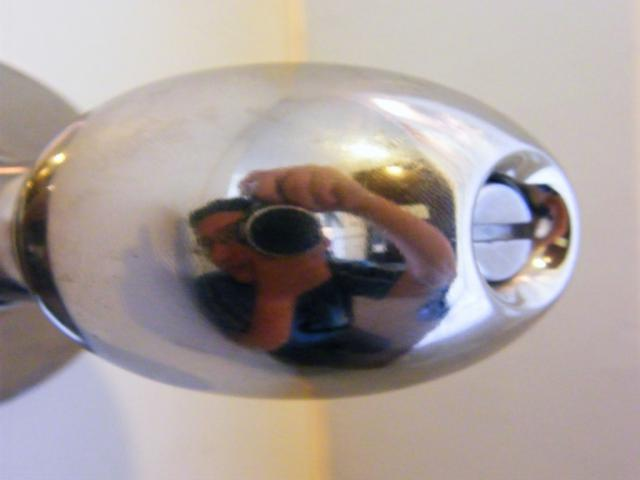Door-handle: (0, 61, 580, 406)
